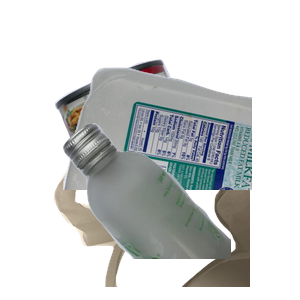glass: (60, 120, 300, 300)
metal: (52, 57, 260, 237)
plastic: (60, 65, 300, 245)
trash: (51, 120, 291, 300)
